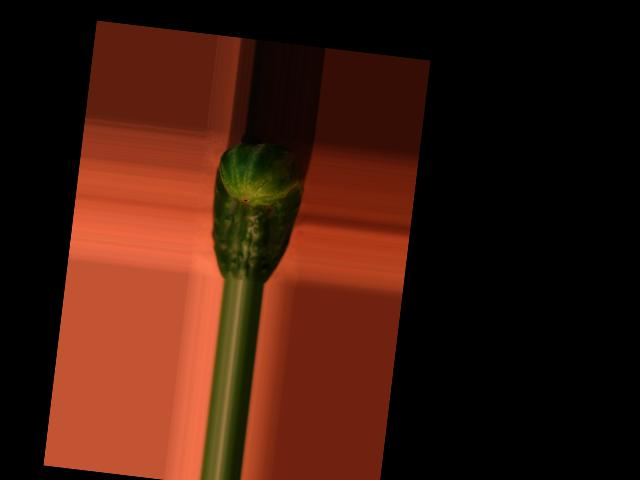cucumber: (203, 138, 307, 287)
